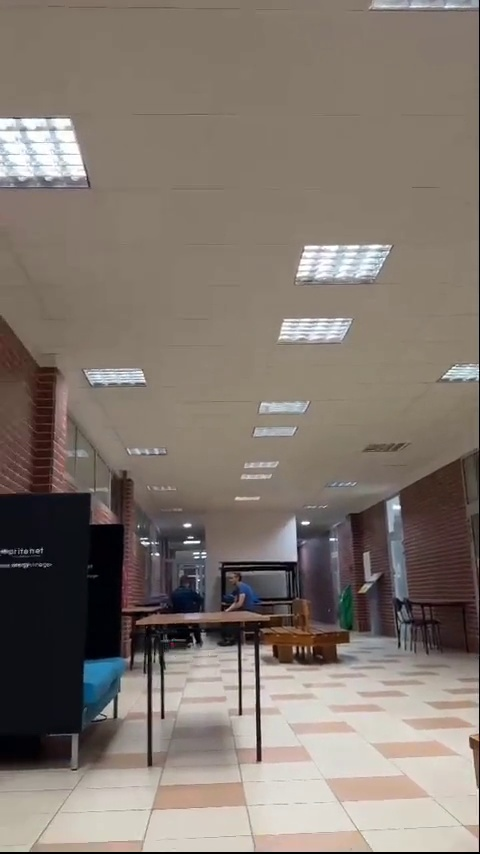drone: (156, 638, 189, 652)
no vest: (225, 572, 257, 614), (170, 574, 200, 611)
